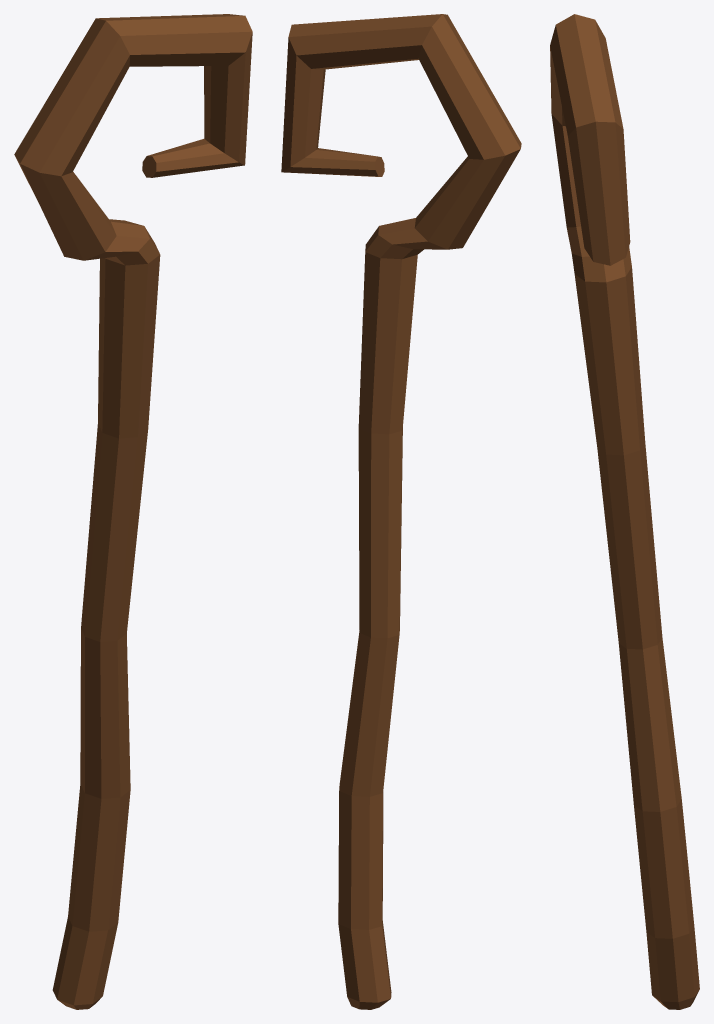
File: WoodenStaff.fbx
The picture shows the model from 3 angles, left to right: view 1: azimuth 30°, elevation 25°; view 2: azimuth 150°, elevation 25°; view 3: azimuth 270°, elevation 25°; orthographic projection. The views are drawn at different scales.
Visible parts, largest first — view 1: node_id4; view 2: node_id4; view 3: node_id4.
Part boxes in pixels (x1,y1,x2,y2): node_id4: [14, 14, 252, 1009]; node_id4: [281, 14, 521, 1009]; node_id4: [550, 14, 699, 1009].
Size of the model in its own units: 0.123 by 0.5103 by 0.0709.
Materials: 1 (1 with a texture image).
